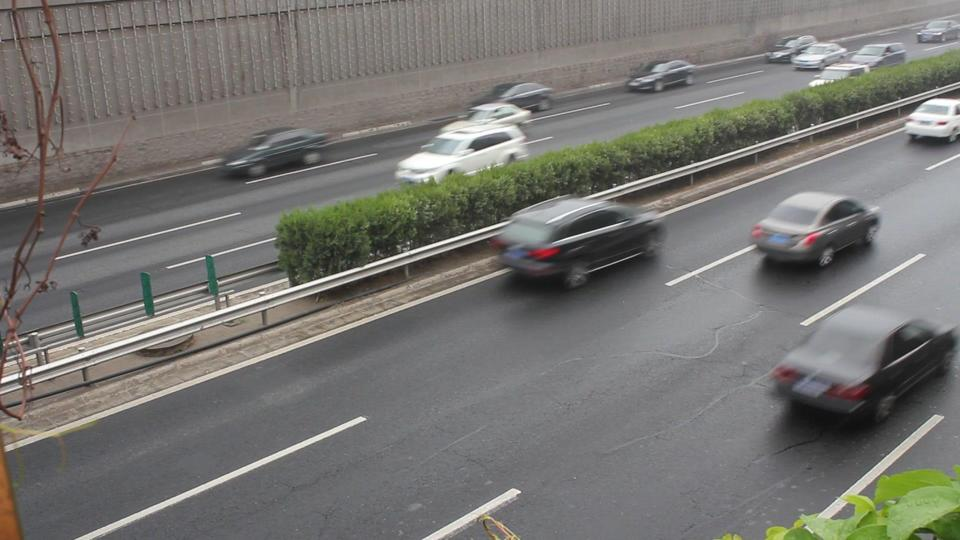car: (767, 304, 959, 428), (490, 198, 667, 290), (748, 191, 882, 268), (394, 122, 531, 186), (219, 126, 332, 179), (465, 82, 555, 114), (905, 97, 960, 144), (625, 60, 699, 93), (835, 43, 909, 70), (462, 102, 534, 128), (790, 42, 850, 71), (766, 35, 818, 63), (916, 20, 960, 44)
